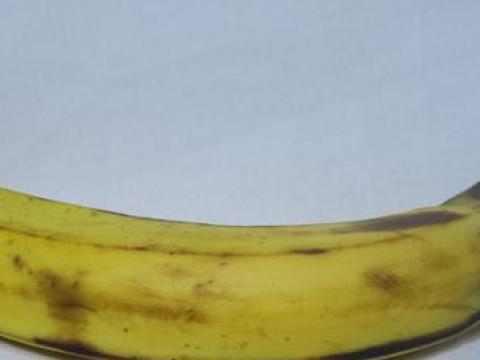ripe: (0, 170, 479, 359)
